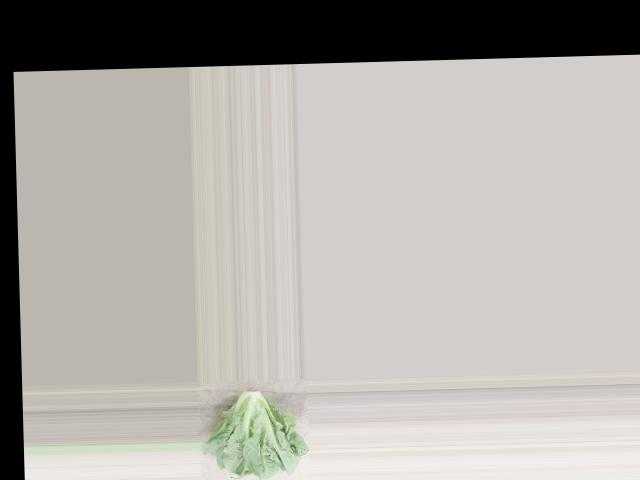lettuce: (200, 382, 306, 480)
